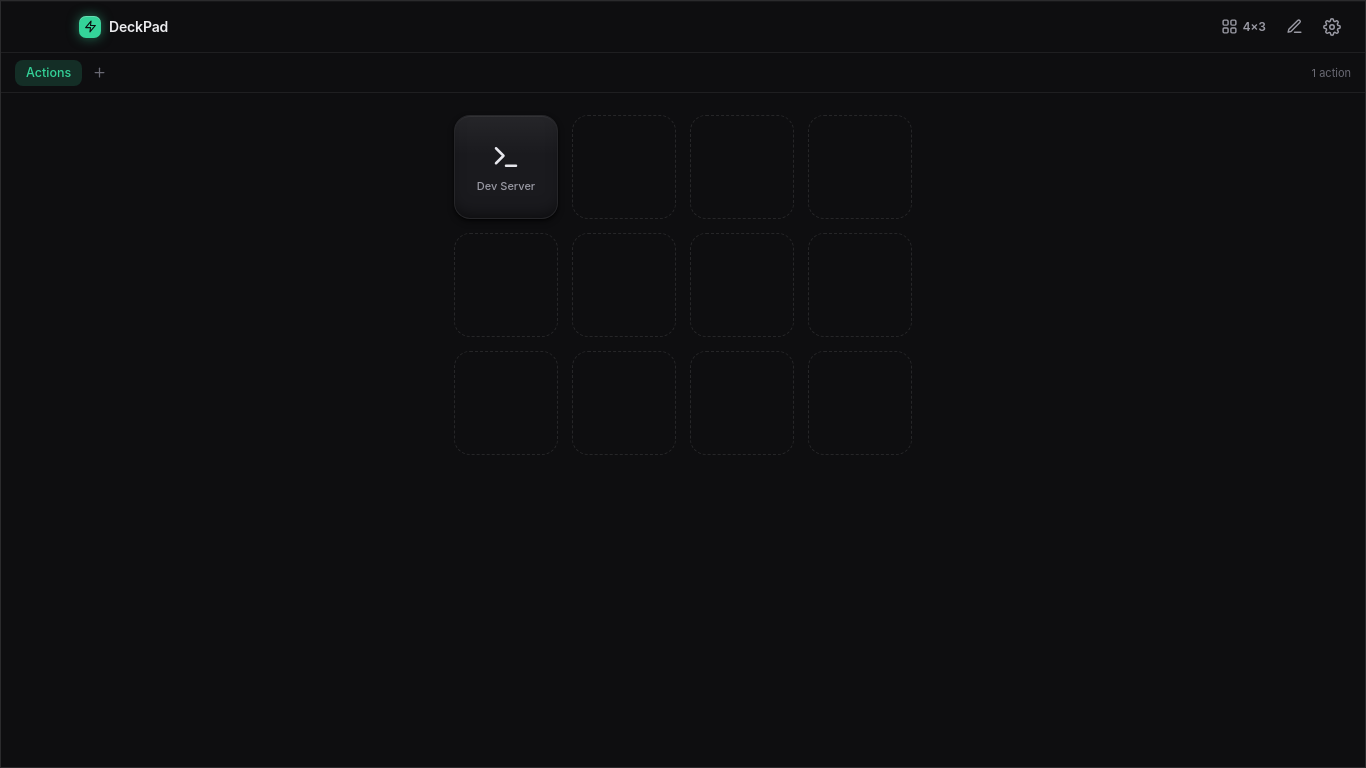
Test: App shell › shows the running pill and tab dot while an action runs
Click the button with class "dp-key--filled". click: click(506, 167)
box: [454,115,558,219]
Wait 600 ms
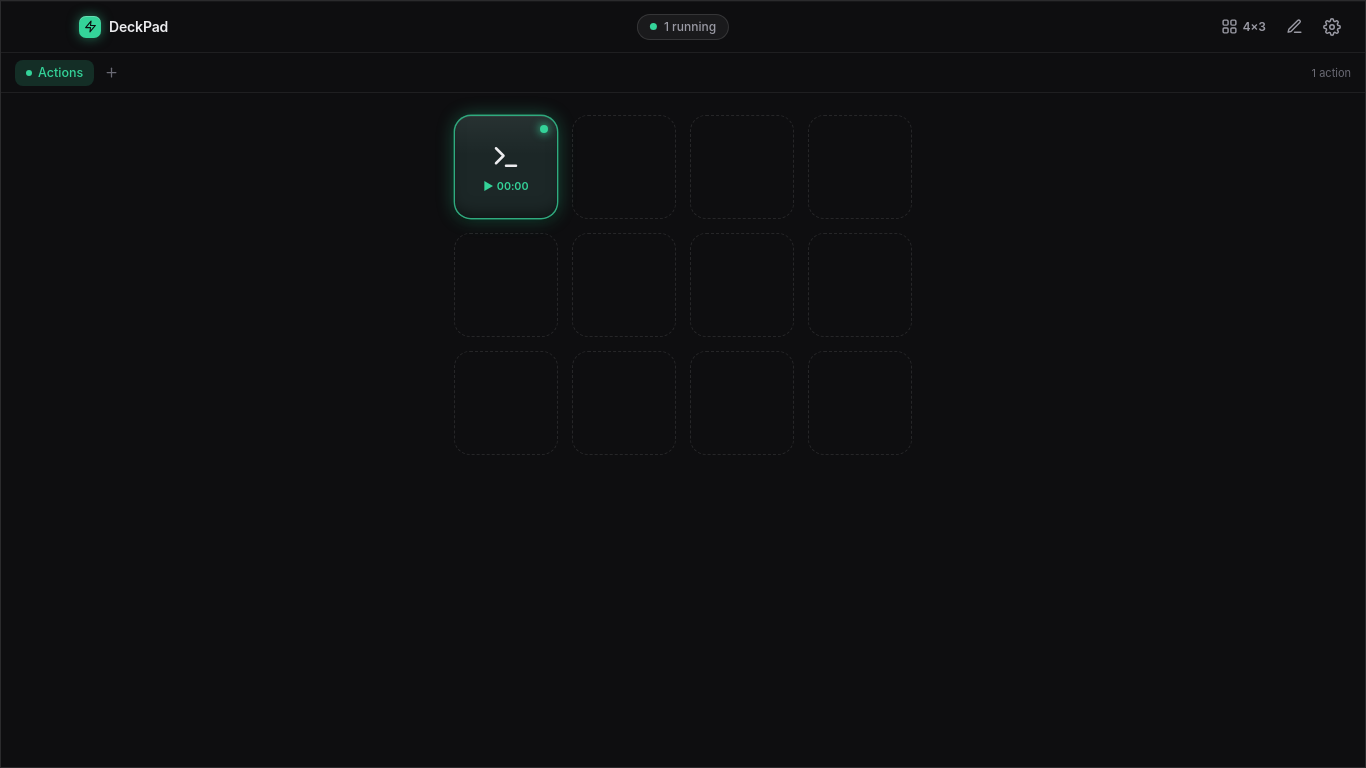
Expected: the button "1 running" is shown
Expected: the element with class "dp-tab-dot" is shown, [26,70,32,76]
Click the button "1 running". click: click(683, 26)
box: [637,14,729,40]
Wait 2000 ms
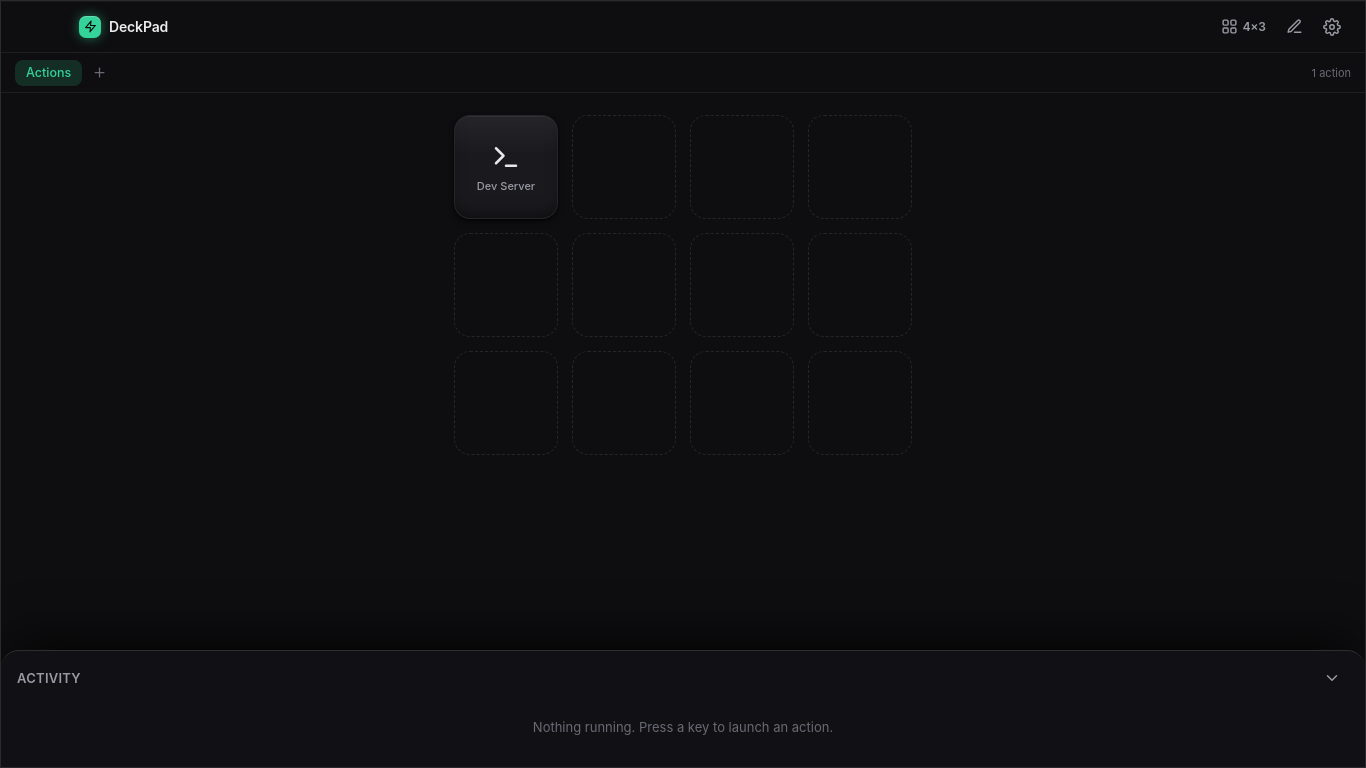
Expected: the element with class "is-open" is shown, [1,650,1365,767]
